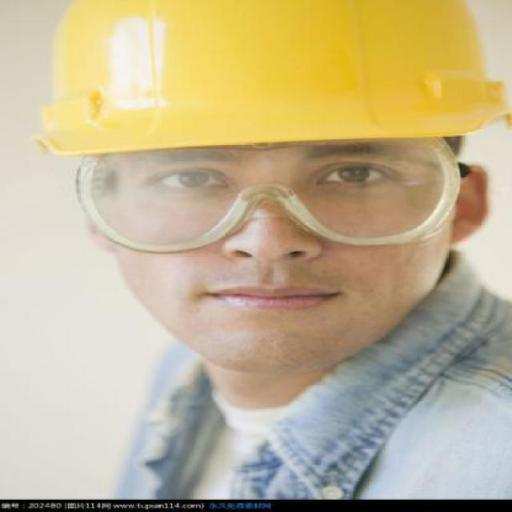glass: (50, 141, 466, 260)
hardhat: (30, 2, 510, 164)
